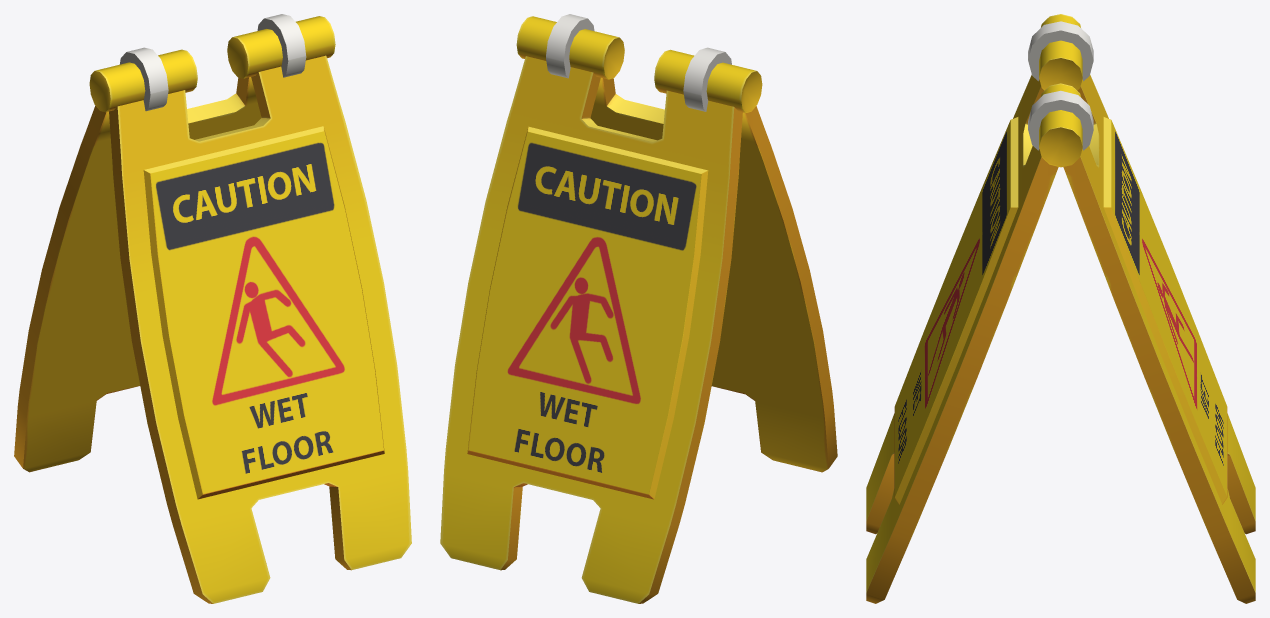
Rendered from cleaners_sign_wetFloorWarning_1.fbx.
The picture shows the model from 3 angles, left to right: view 1: azimuth 30°, elevation 25°; view 2: azimuth 150°, elevation 25°; view 3: azimuth 270°, elevation 25°; orthographic projection. The views are drawn at different scales.
Parts seen in each view (by area): view 1: cleaners_sign_wetFloorWarning_1; view 2: cleaners_sign_wetFloorWarning_1; view 3: cleaners_sign_wetFloorWarning_1.
Boxes of the visible parts, x1,y1,x2,y2 form: cleaners_sign_wetFloorWarning_1: (14, 14, 411, 603); cleaners_sign_wetFloorWarning_1: (440, 14, 837, 603); cleaners_sign_wetFloorWarning_1: (866, 14, 1255, 603).
Bounding box in the file's own units: 17.01 × 32.11 × 22.87.
